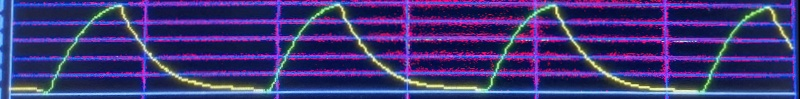normal_volume: (0, 0, 791, 96)
